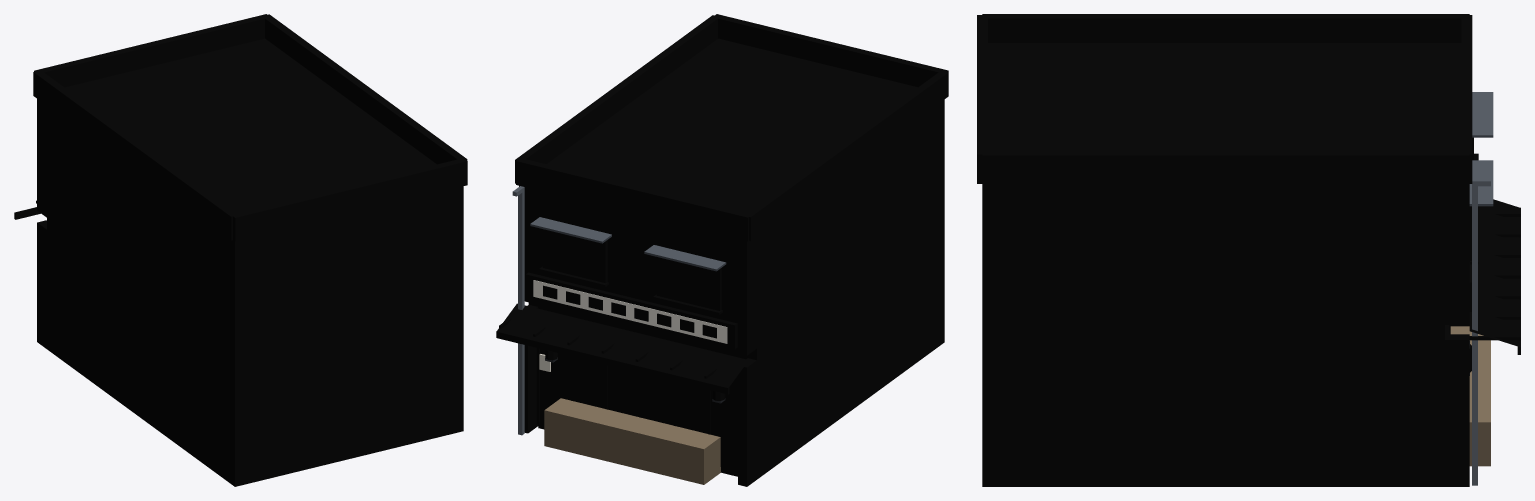
Rendered from Shop_A.fbx.
3 views of the same model, side by side, from view 1: azimuth 30°, elevation 25°; view 2: azimuth 150°, elevation 25°; view 3: azimuth 270°, elevation 25° (orthographic). The views are drawn at different scales.
Visible parts, largest first — view 1: RoofTop.001, BodyLow, BodyUp, Pilasters; view 2: RoofTop.001, BodyUp, BodyLow, Glass.005, Geya, ShopStall, WinFrame.005, Pilasters, SignBand, SignFace, LitGlass.005, Hoods.004 (+3 smaller); view 3: RoofTop.001, BodyLow, BodyUp, Geya, Pilasters, ShopStall, Pipes.005, Hoods.004.
Boxes of the visible parts, <box> form: RoofTop.001: <box>33,14,467,241</box>; BodyLow: <box>47,218,463,486</box>; BodyUp: <box>37,99,463,355</box>; Pilasters: <box>37,220,46,348</box>; RoofTop.001: <box>515,14,948,241</box>; BodyUp: <box>519,99,944,355</box>; BodyLow: <box>528,211,944,479</box>; Glass.005: <box>540,259,737,470</box>; Geya: <box>496,303,748,394</box>; ShopStall: <box>544,398,720,484</box>; WinFrame.005: <box>539,229,722,314</box>; Pilasters: <box>524,305,756,486</box>; SignBand: <box>525,272,737,349</box>; SignFace: <box>533,280,727,343</box>; LitGlass.005: <box>546,230,602,279</box>; Hoods.004: <box>530,217,726,271</box>; RoofTop.001: <box>977,14,1472,185</box>; BodyLow: <box>982,325,1444,486</box>; BodyUp: <box>982,185,1469,324</box>; Geya: <box>1469,199,1520,354</box>; Pilasters: <box>1445,325,1469,486</box>; ShopStall: <box>1450,326,1490,466</box>; Pipes.005: <box>1472,179,1490,485</box>; Hoods.004: <box>1469,92,1493,206</box>.
Bounding box in the file's own units: 6.2 × 6.8 × 10.05.
